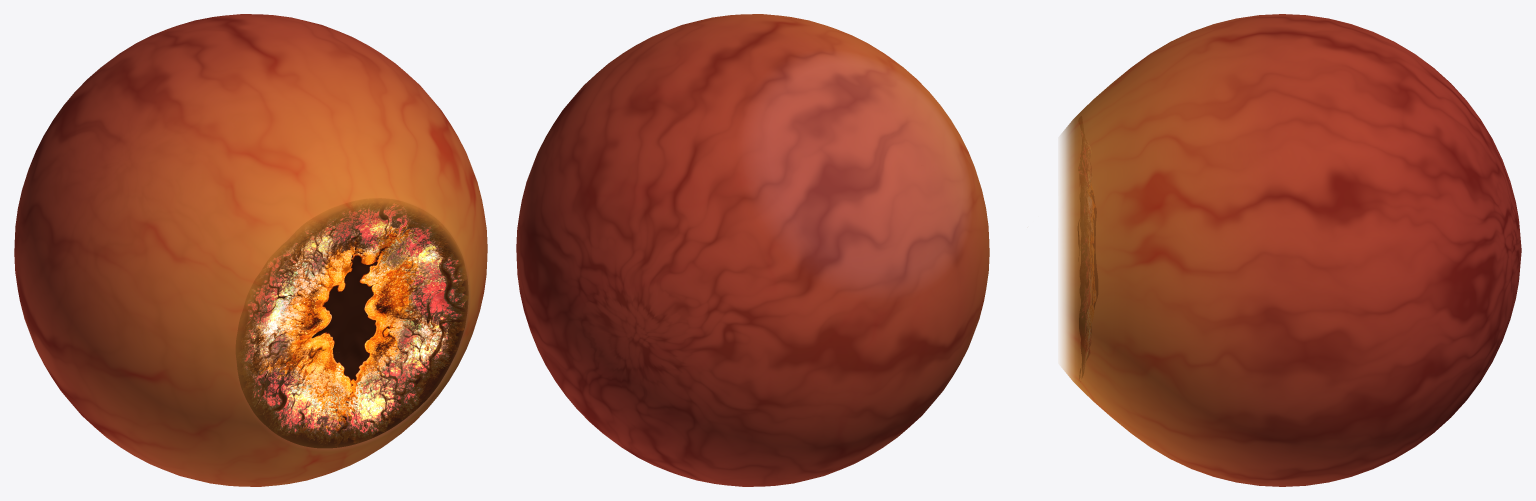
The picture shows the model from 3 angles, left to right: view 1: azimuth 30°, elevation 25°; view 2: azimuth 150°, elevation 25°; view 3: azimuth 270°, elevation 25°; orthographic projection.
Parts seen in each view (by area): view 1: eye_1, irys-red_0; view 2: eye_1; view 3: eye_1, irys-red_0.
Part boxes in pixels (<box>): eye_1: <box>14,14,487,486</box>; irys-red_0: <box>236,198,468,448</box>; eye_1: <box>516,14,989,486</box>; eye_1: <box>1060,14,1521,486</box>; irys-red_0: <box>1078,116,1097,376</box>.
Bounding box in the file's own units: 1.97 × 1.97 × 2.1.
Materials: 2 (2 with a texture image).
